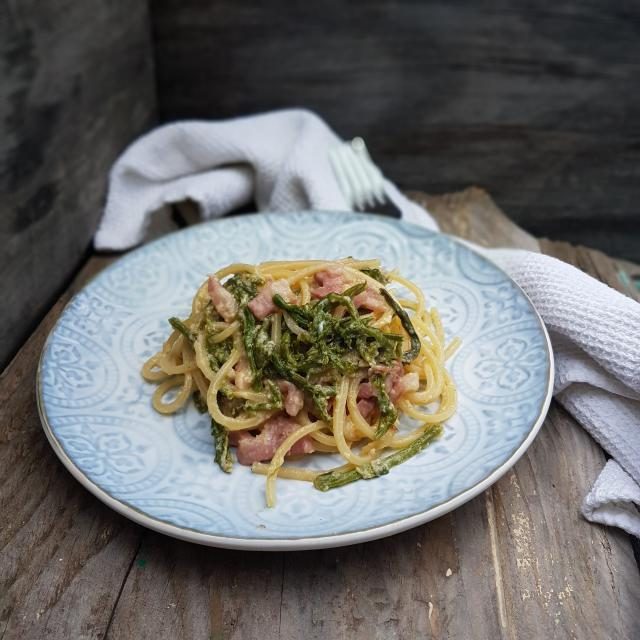Pasta with carbonara sauce: (76, 204, 536, 524)
